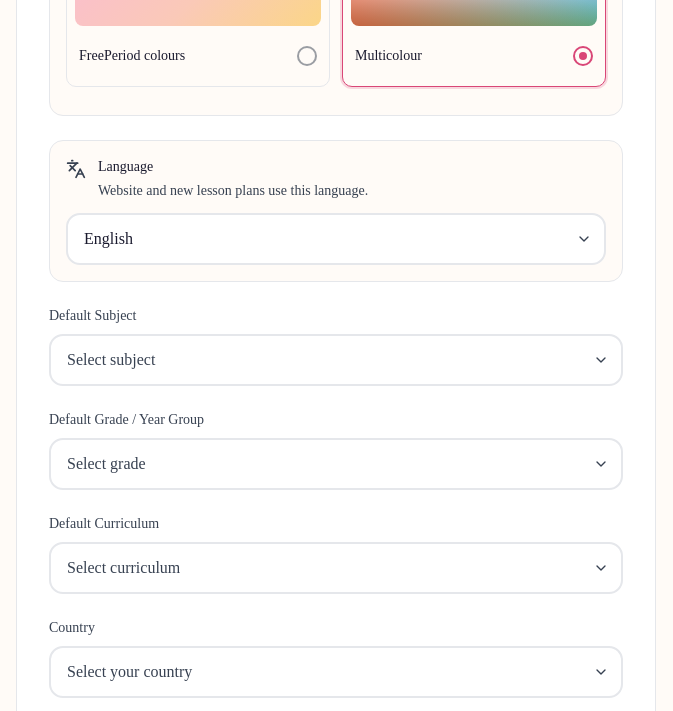
Test: SettingsClient — subject dropdown › shows custom subject input when Custom is selected
The width and height of the screenshot is (673, 711).
(page scrolled)
Click the button named "default subject" at (111, 360), box x1=49 y1=334 x2=623 y2=386
(page scrolled)
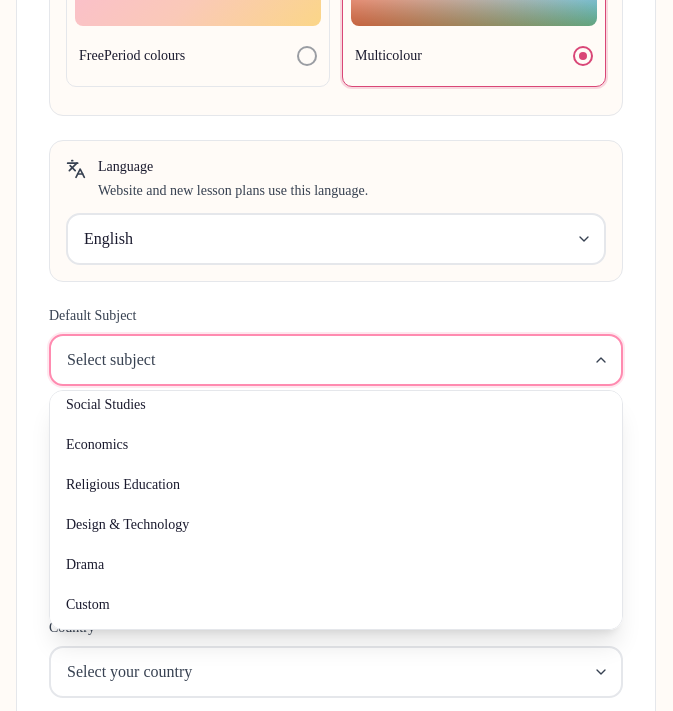
Click the option "Custom" at (88, 604), box x1=66 y1=597 x2=110 y2=612
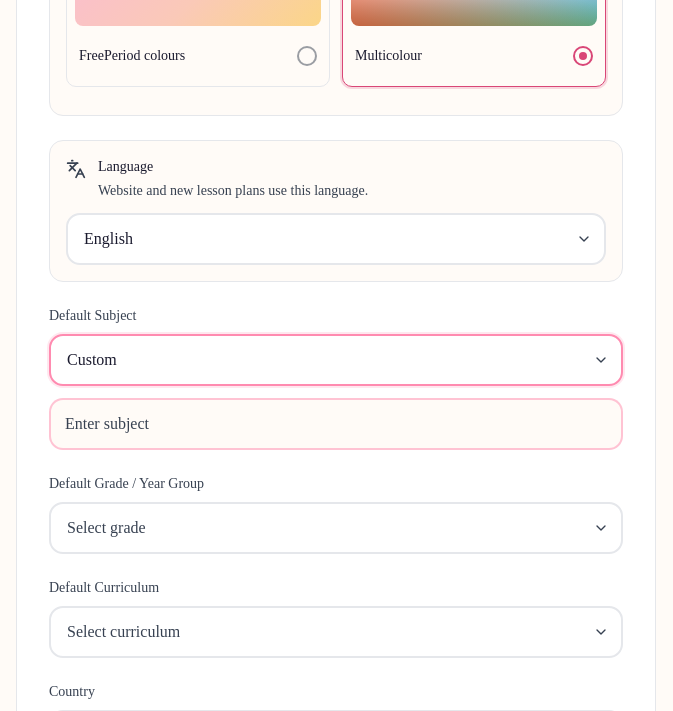
Expected: the field with placeholder "Enter subject" is shown, x1=49 y1=398 x2=623 y2=450
